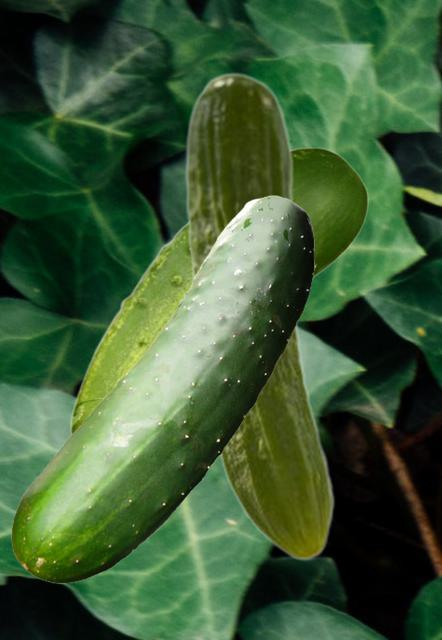cucumber: (11, 195, 313, 582), (69, 147, 367, 433), (184, 71, 334, 561)
